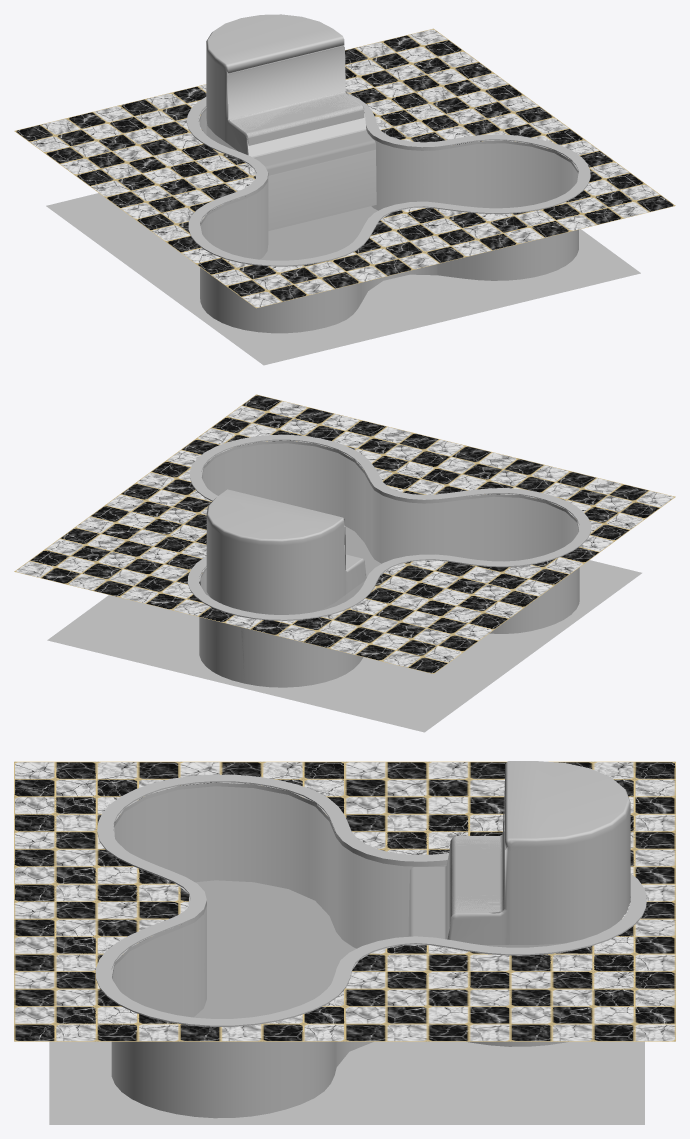
File: WaterStone.fbx
The picture shows the model from 3 angles, top to bottom: view 1: azimuth 30°, elevation 25°; view 2: azimuth 150°, elevation 25°; view 3: azimuth 270°, elevation 25°; orthographic projection. The views are drawn at different scales.
Parts seen in each view (by area): view 1: Pool, Pool_L0, Back, Front, WaterFall; view 2: Pool, Pool_L0, Back; view 3: Pool, Pool_L0, Back, Front, WaterFall.
Boxes of the visible parts, bbox=[...] form: Pool: bbox=[14, 28, 675, 365]; Pool_L0: bbox=[16, 29, 673, 307]; Back: bbox=[206, 14, 364, 155]; Front: bbox=[228, 46, 375, 175]; WaterFall: bbox=[229, 91, 365, 157]; Pool: bbox=[14, 394, 675, 732]; Pool_L0: bbox=[17, 395, 673, 674]; Back: bbox=[206, 489, 366, 614]; Pool: bbox=[14, 761, 675, 1124]; Pool_L0: bbox=[14, 762, 674, 1066]; Back: bbox=[448, 761, 630, 947]; Front: bbox=[410, 831, 504, 939]; WaterFall: bbox=[445, 835, 504, 939].
Size of the model in its own units: 48 by 15.99 by 48.
